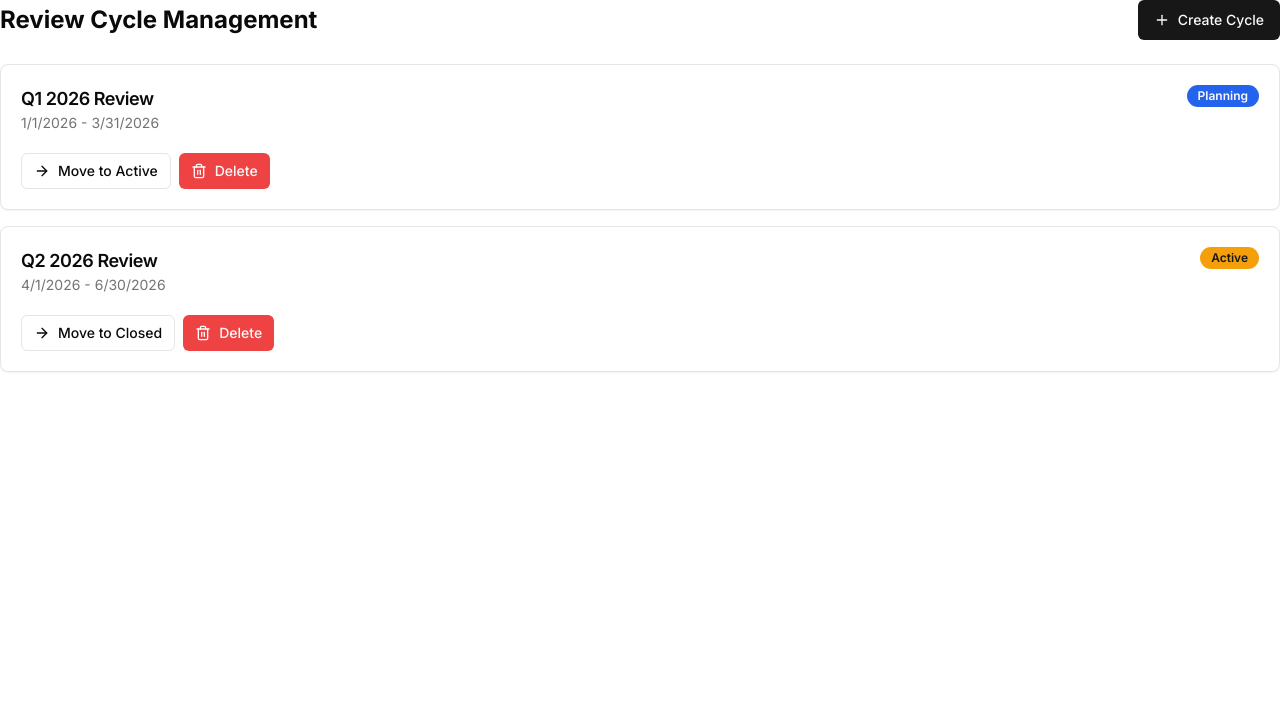
it: ReviewCycleManagement Component › opens create cycle dialog
Click the button "Create Cycle".
click(1209, 20)  # box [1138,0,1279,40]
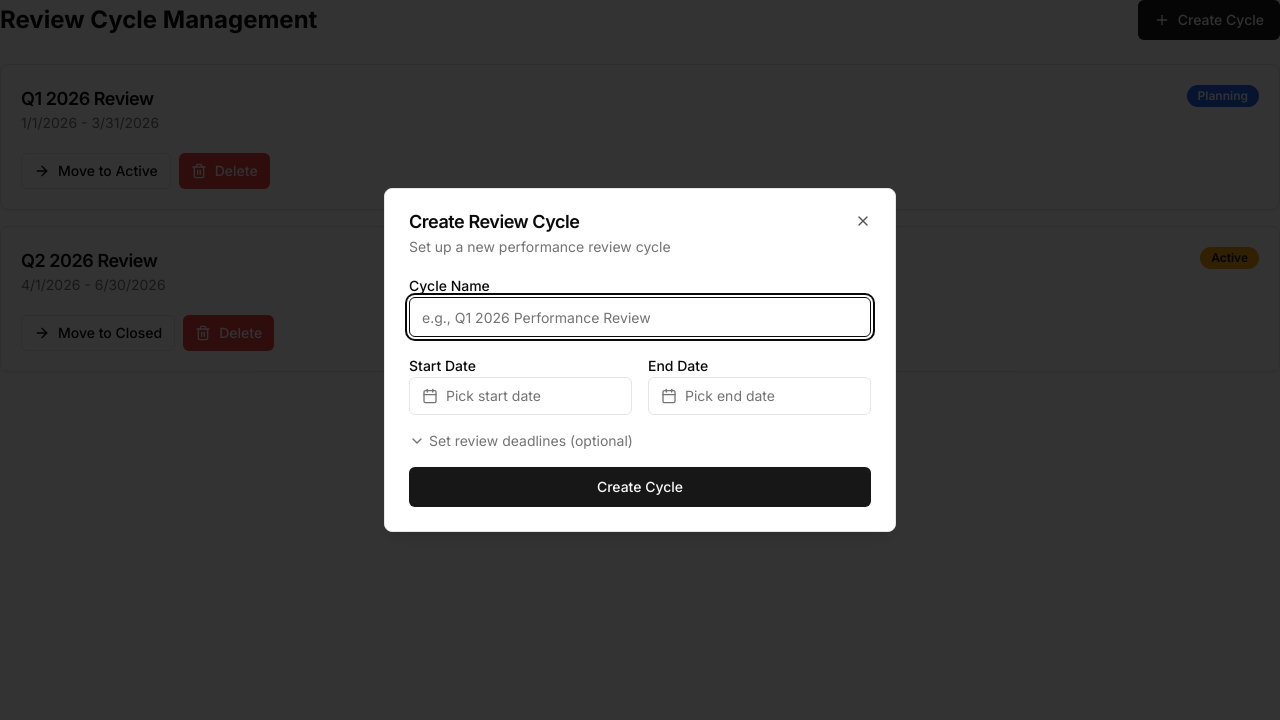
Check: the heading "Create Review Cycle" is shown, box [409,211,580,232]
